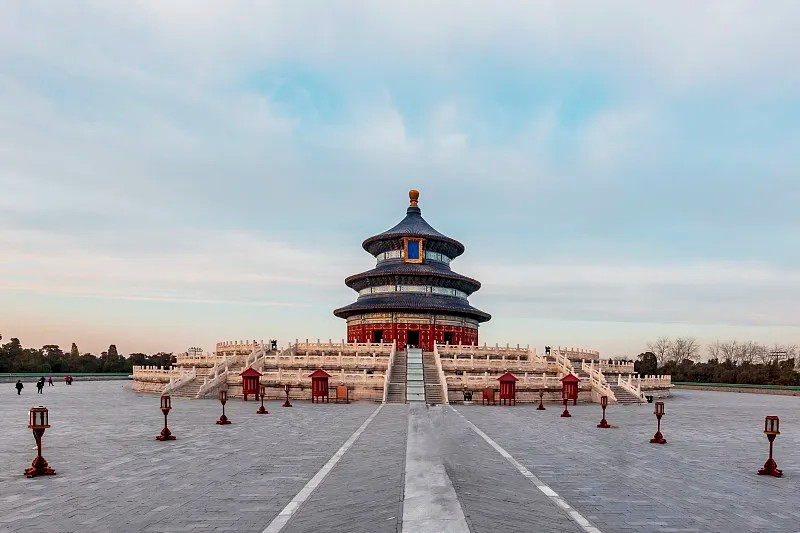Heaven: (333, 190, 492, 352)
